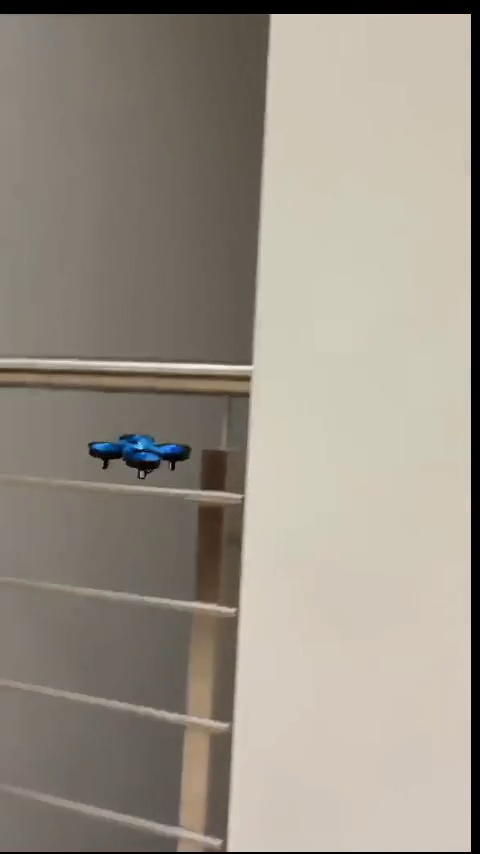drone: (88, 430, 192, 477)
